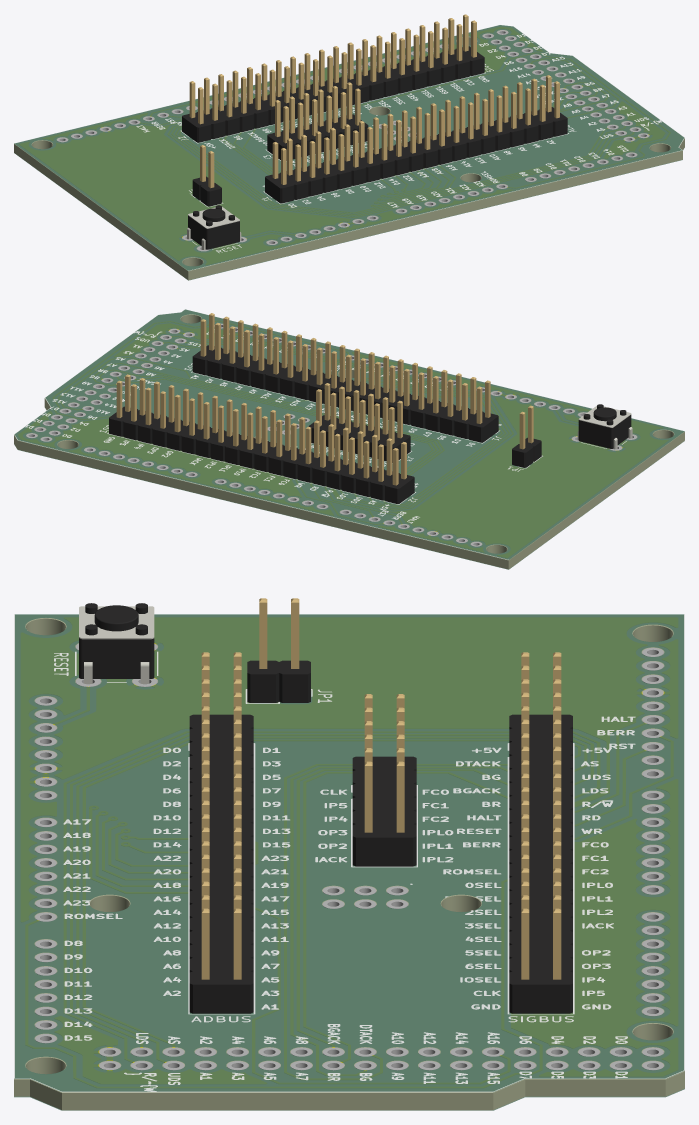
File: board.glb
3 views of the same model, one above another, from view 1: azimuth 30°, elevation 25°; view 2: azimuth 150°, elevation 25°; view 3: azimuth 270°, elevation 25° (orthographic). The views are drawn at different scales.
Parts seen in each view (by area): view 1: board_soldermask (×2), PinHeader_2x20_P254mm_Vertical (×2), board_PCB, board_copper, board_silkscreen, board_pad, PinHeader_2x06_P254mm_Vertical, SW_PUSH_6mm, PinHeader_1x02_P254mm_Vertical; view 2: board_soldermask (×2), PinHeader_2x20_P254mm_Vertical (×2), board_copper, board_PCB, board_silkscreen, board_pad, PinHeader_2x06_P254mm_Vertical, SW_PUSH_6mm, PinHeader_1x02_P254mm_Vertical; view 3: board_soldermask (×2), board_PCB, board_copper, PinHeader_2x20_P254mm_Vertical (×2), board_silkscreen, board_pad, PinHeader_2x06_P254mm_Vertical, SW_PUSH_6mm, PinHeader_1x02_P254mm_Vertical.
Part boxes in pixels (x1,y1,x2,y2): board_soldermask (×2): [14, 25, 684, 280]; PinHeader_2x20_P254mm_Vertical (×2): [182, 14, 567, 203]; board_PCB: [14, 26, 684, 280]; board_copper: [19, 27, 669, 264]; board_silkscreen: [15, 24, 684, 270]; board_pad: [57, 30, 649, 251]; PinHeader_2x06_P254mm_Vertical: [267, 82, 368, 160]; SW_PUSH_6mm: [187, 205, 241, 249]; PinHeader_1x02_P254mm_Vertical: [192, 145, 221, 206]; board_soldermask (×2): [14, 309, 684, 569]; PinHeader_2x20_P254mm_Vertical (×2): [109, 313, 498, 503]; board_copper: [18, 321, 667, 557]; board_PCB: [14, 310, 684, 569]; board_silkscreen: [14, 309, 684, 559]; board_pad: [26, 323, 636, 546]; PinHeader_2x06_P254mm_Vertical: [308, 383, 410, 462]; SW_PUSH_6mm: [577, 404, 632, 449]; PinHeader_1x02_P254mm_Vertical: [512, 405, 541, 467]; board_soldermask (×2): [14, 614, 684, 1110]; board_PCB: [14, 615, 684, 1110]; board_copper: [21, 618, 677, 1087]; PinHeader_2x20_P254mm_Vertical (×2): [189, 652, 572, 1013]; board_silkscreen: [14, 614, 684, 1092]; board_pad: [35, 643, 663, 1070]; PinHeader_2x06_P254mm_Vertical: [352, 694, 416, 866]; SW_PUSH_6mm: [79, 603, 154, 684]; PinHeader_1x02_P254mm_Vertical: [247, 598, 310, 702].
Size of the model in its own units: 0.0899 by 0.012 by 0.0533.
